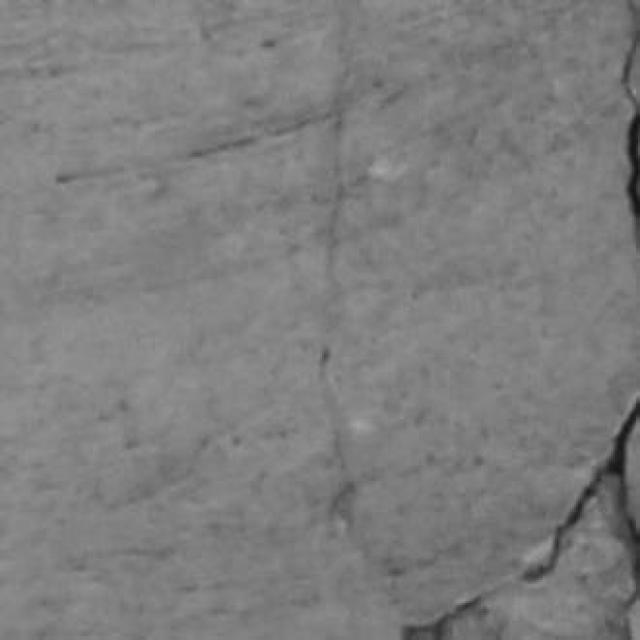crack: (400, 396, 639, 639), (319, 0, 362, 548), (55, 105, 331, 184), (522, 396, 639, 581), (621, 0, 639, 250)
